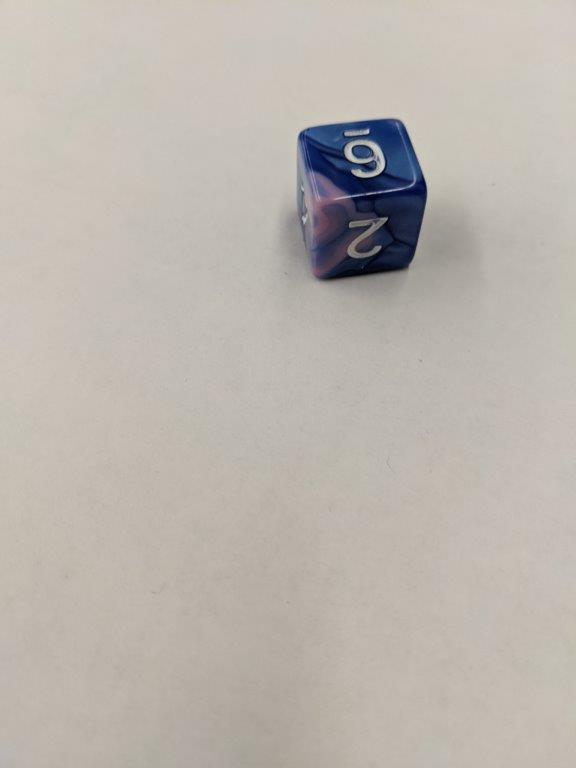d6-6: (294, 117, 427, 281)
